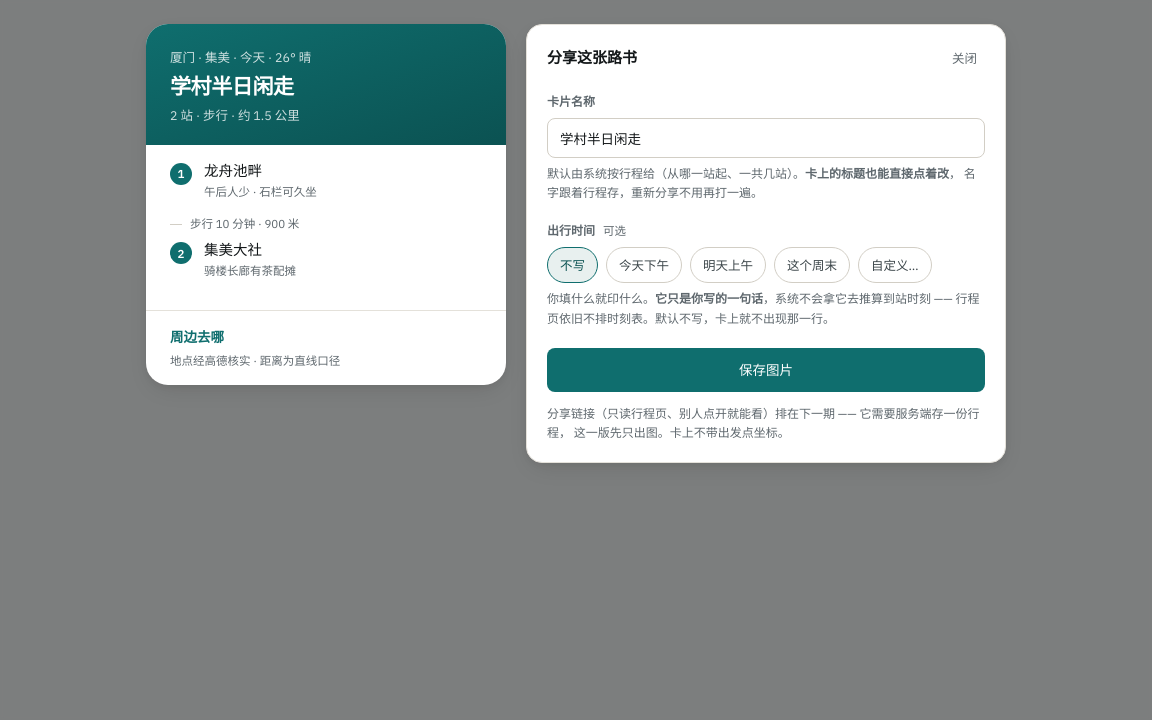
Test: ShareCardDialog · 导出 › 导出失败必须说出来 —— 点了没反应比报错更糟
The image size is (1152, 720).
Click the button "保存图片": (766, 370) x1=547 y1=348 x2=985 y2=392
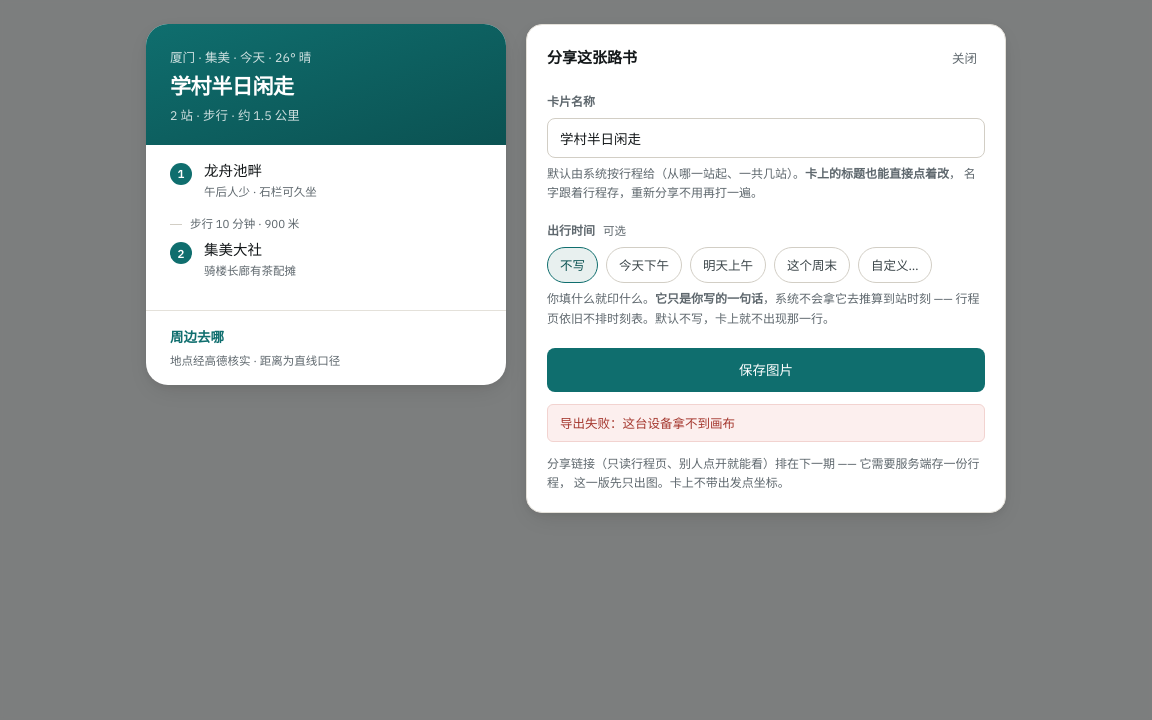
Expected: the text "导出失败：这台设备拿不到画布" is shown, x1=547 y1=404 x2=985 y2=442
